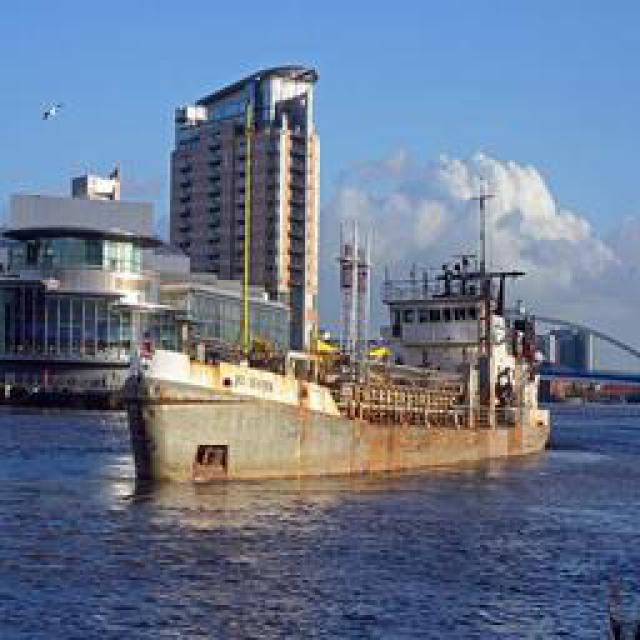Ship: (121, 177, 594, 495)
